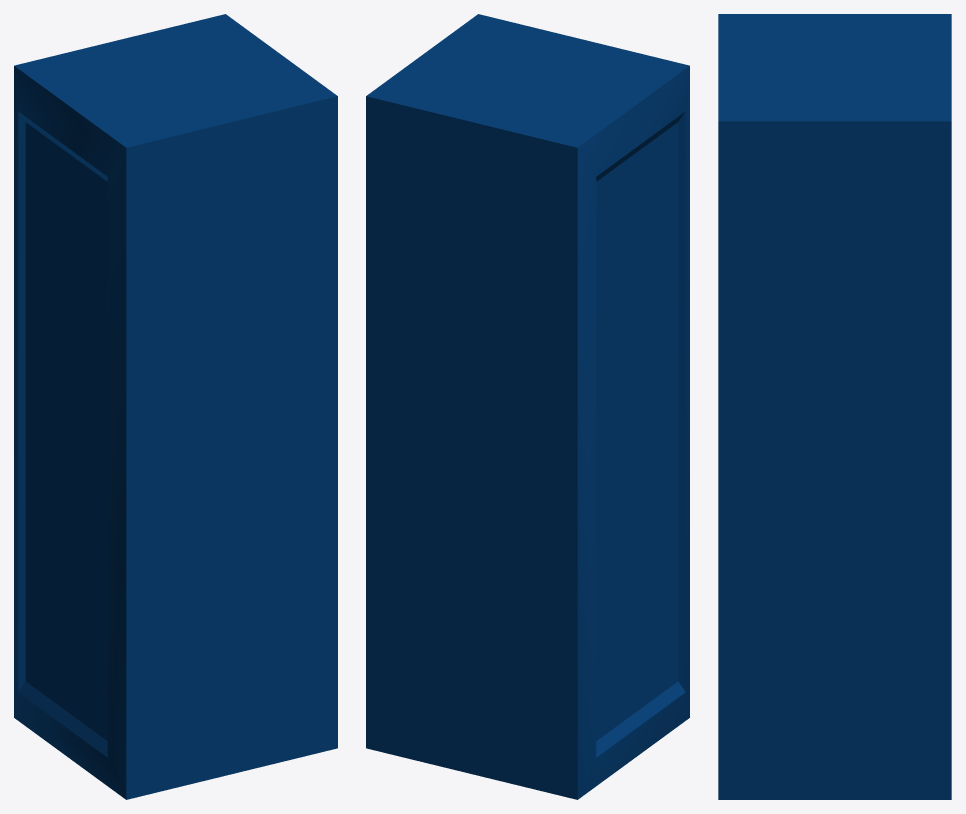
Rendered from Lever_Btn.fbx.
3 views of the same model, side by side, from view 1: azimuth 30°, elevation 25°; view 2: azimuth 150°, elevation 25°; view 3: azimuth 270°, elevation 25° (orthographic). The views are drawn at different scales.
Parts seen in each view (by area): view 1: Lever_Btn; view 2: Lever_Btn; view 3: Lever_Btn.
Part boxes in pixels (x1,y1,x2,y2): Lever_Btn: [14, 14, 337, 799]; Lever_Btn: [366, 14, 689, 799]; Lever_Btn: [718, 14, 951, 799].
Size of the model in its own units: 3.72 by 10.59 by 3.31.
